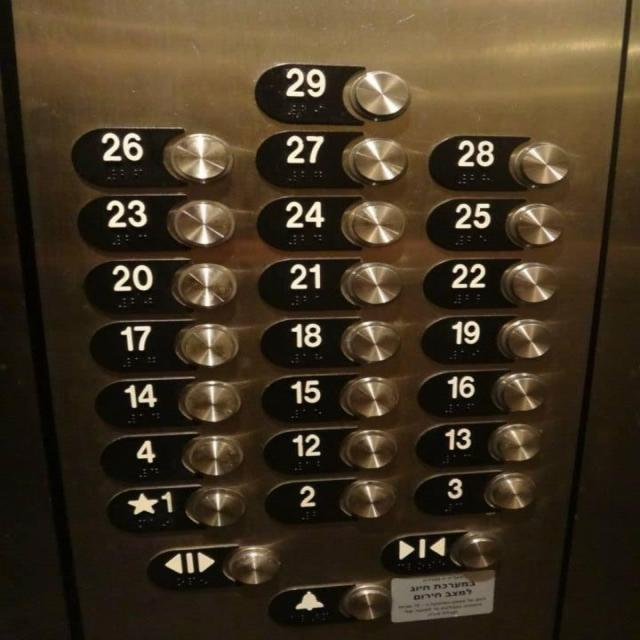12: (257, 424, 400, 475)
13: (412, 418, 548, 469)
14: (94, 375, 244, 431)
15: (258, 371, 402, 423)
16: (414, 367, 553, 418)
17: (87, 317, 240, 375)
18: (254, 314, 404, 368)
19: (417, 310, 557, 366)
2: (257, 473, 400, 525)
20: (79, 257, 241, 314)
21: (253, 256, 408, 311)
22: (420, 255, 562, 310)
23: (79, 191, 238, 254)
24: (253, 191, 412, 252)
25: (424, 195, 566, 250)
26: (72, 122, 235, 188)
27: (252, 127, 413, 188)
28: (428, 133, 572, 193)
29: (254, 60, 414, 125)
3: (412, 469, 542, 515)
4: (99, 431, 245, 481)
alarm: (265, 578, 394, 627)
close: (380, 526, 505, 579)
open: (142, 542, 284, 591)
s1: (103, 482, 250, 534)
